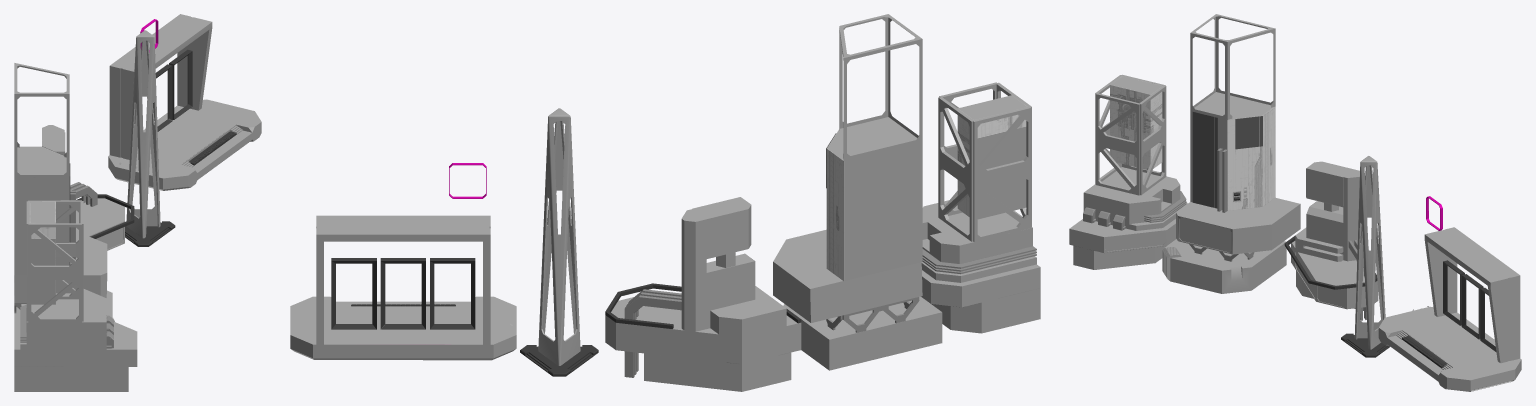
The model's file is XNF_02_UV8.fbx.
3 renders of one model, left to right at view 1: azimuth 30°, elevation 25°; view 2: azimuth 150°, elevation 25°; view 3: azimuth 270°, elevation 25°, orthographic. The views are drawn at different scales.
Parts seen in each view (by area): view 1: XNR_02_UV8; view 2: XNR_02_UV8; view 3: XNR_02_UV8.
Boxes of the visible parts, x1,y1,x2,y2 form: XNR_02_UV8: (14, 14, 261, 391); XNR_02_UV8: (290, 14, 1040, 391); XNR_02_UV8: (1069, 14, 1521, 391).
Bounding box in the file's own units: 79.74 × 45 × 78.86.
Materials: 13 (13 with a texture image).
